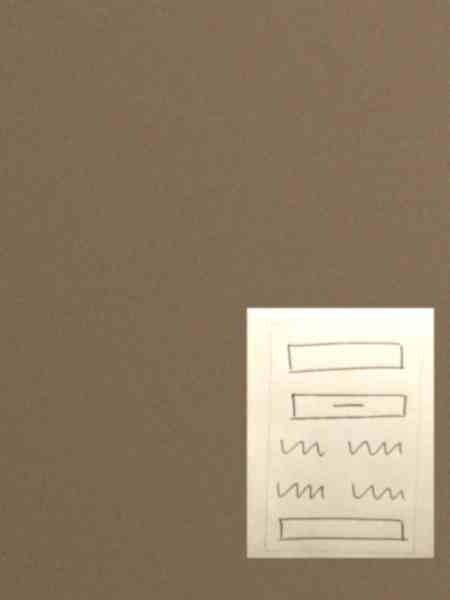button: (286, 388, 410, 424)
text: (349, 479, 408, 508), (272, 476, 329, 503), (344, 436, 405, 460), (279, 435, 327, 463)
text_input: (285, 338, 408, 377), (275, 515, 411, 546)
